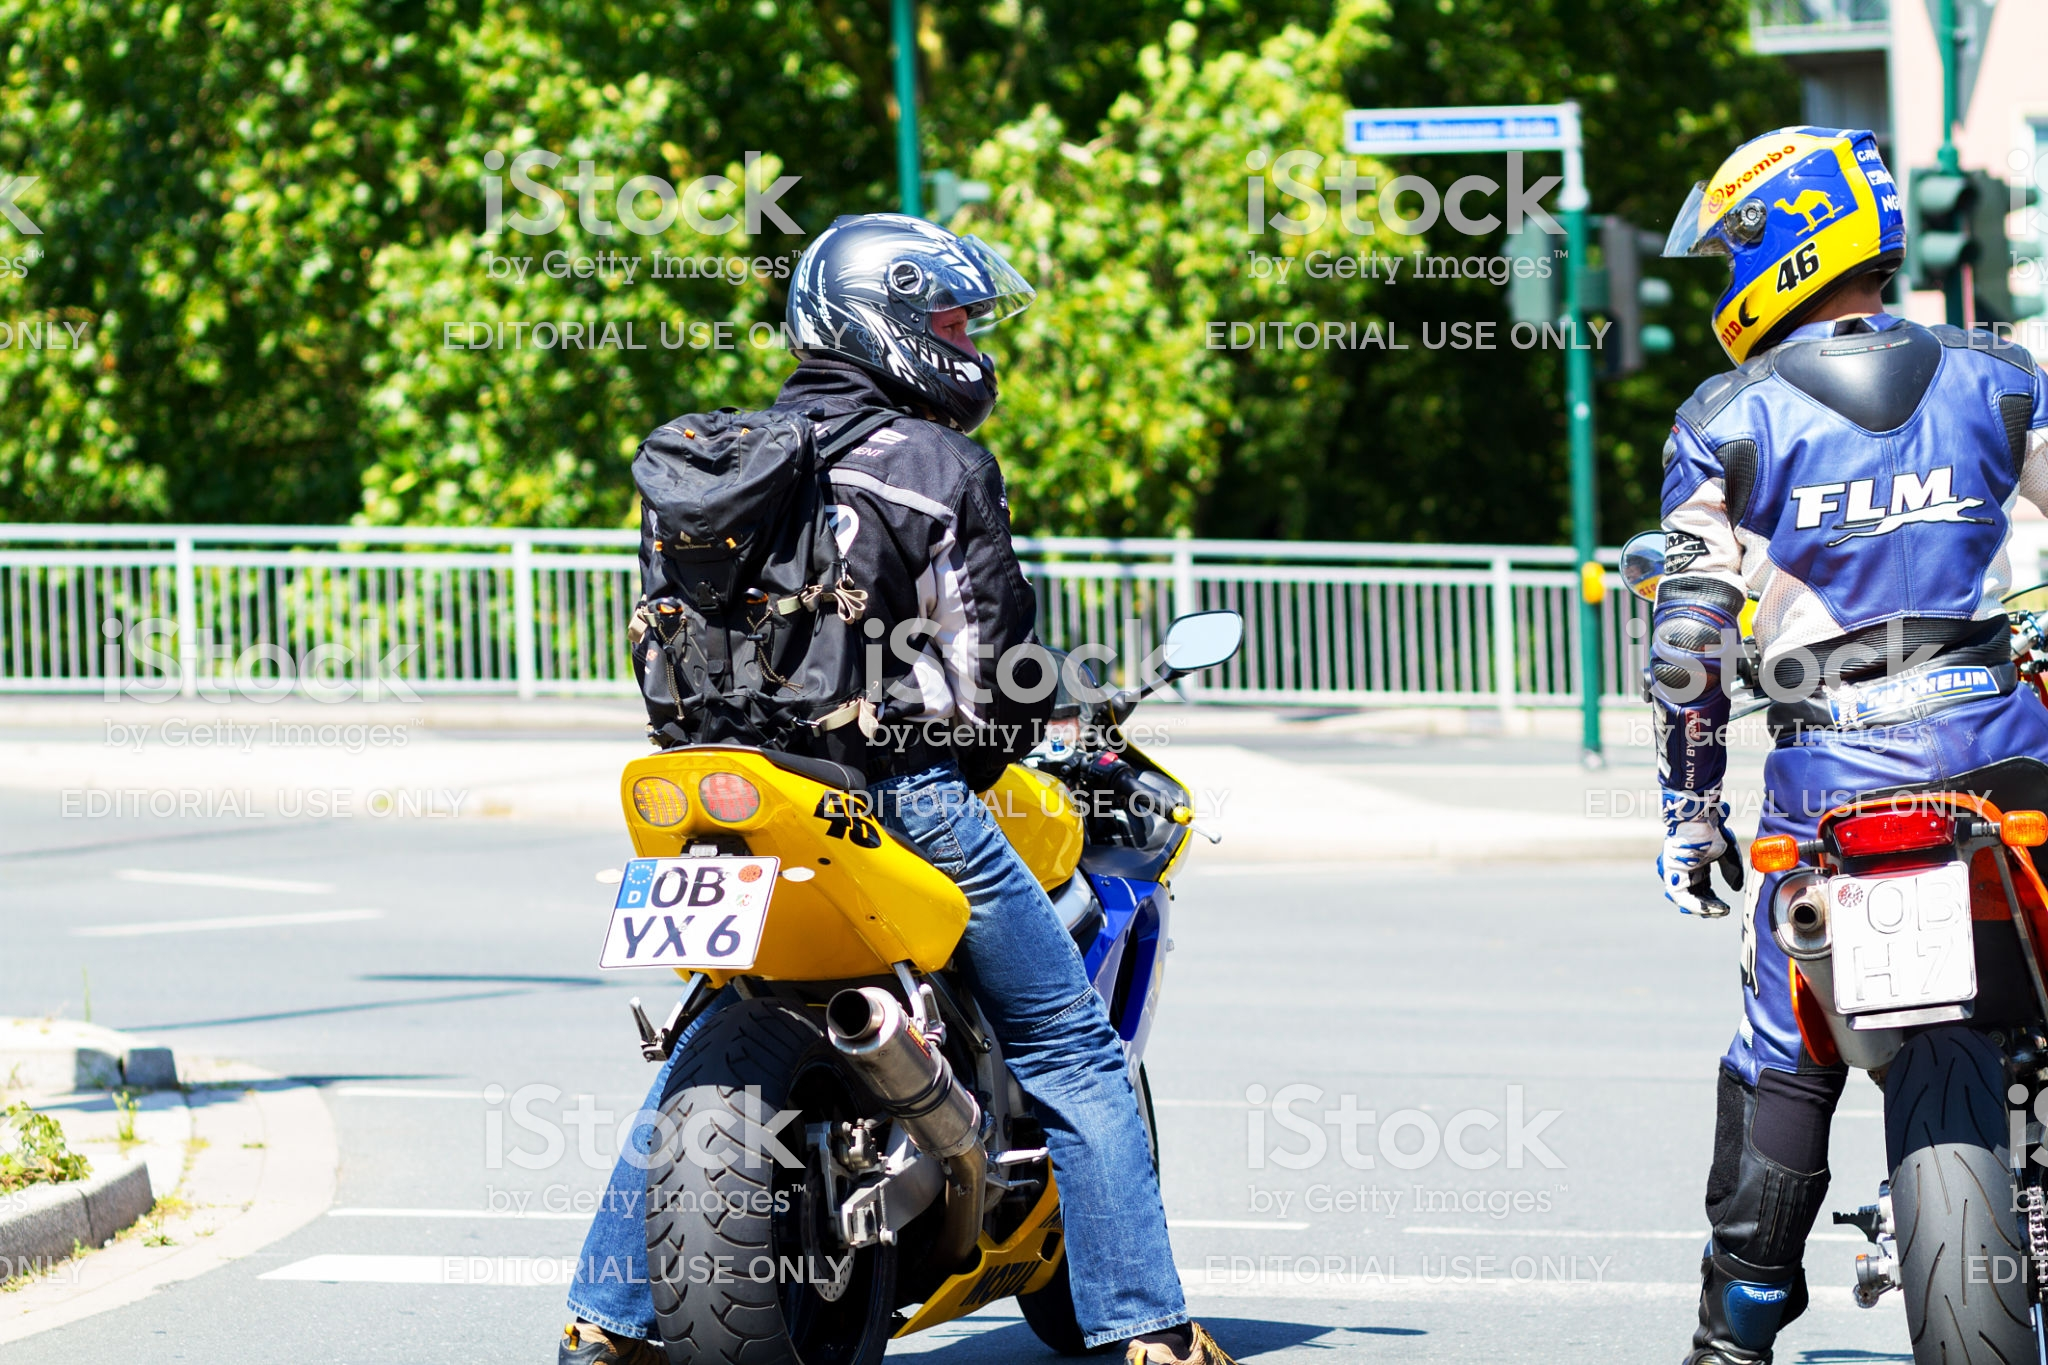helmet: (1646, 133, 1948, 323), (781, 209, 1025, 424)
